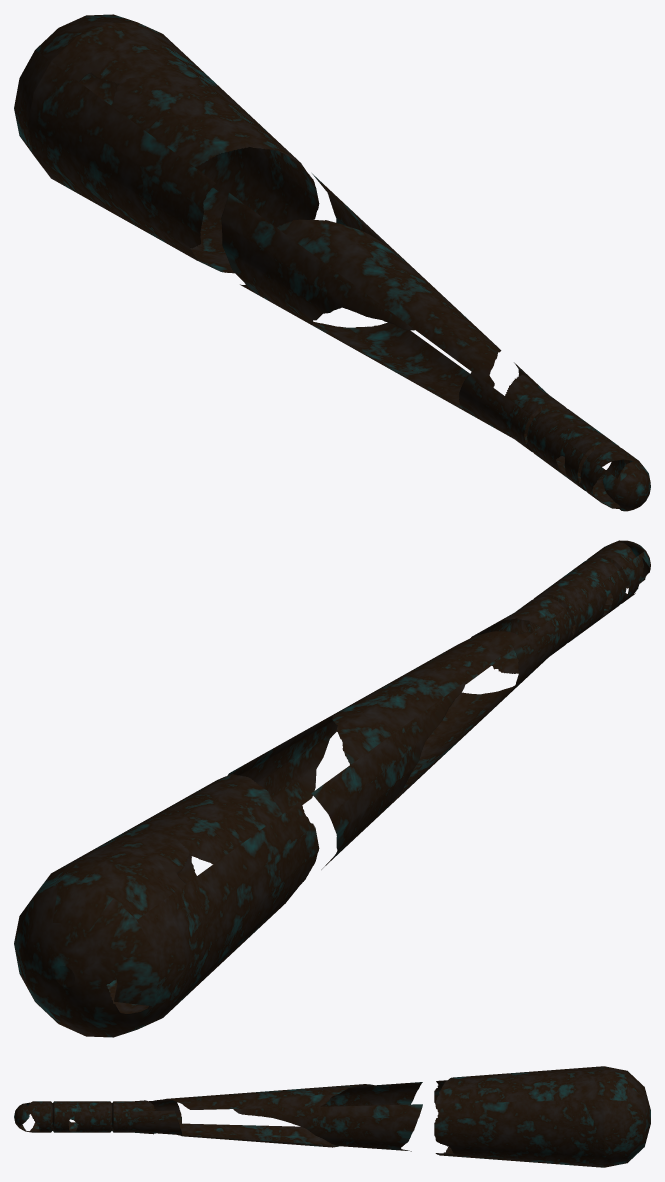
Rendered from gada.fbx.
3 views of the same model, one above another, from view 1: azimuth 30°, elevation 25°; view 2: azimuth 150°, elevation 25°; view 3: azimuth 270°, elevation 25° (orthographic). The views are drawn at different scales.
Parts seen in each view (by area): view 1: gada; view 2: gada; view 3: gada.
Part boxes in pixels (box(x1,y1,x2,y2)): gada: box(14, 14, 650, 511); gada: box(14, 540, 650, 1037); gada: box(14, 1066, 650, 1167).
Bounding box in the file's own units: 136 × 136 × 851.
1 material, 1 textured.
